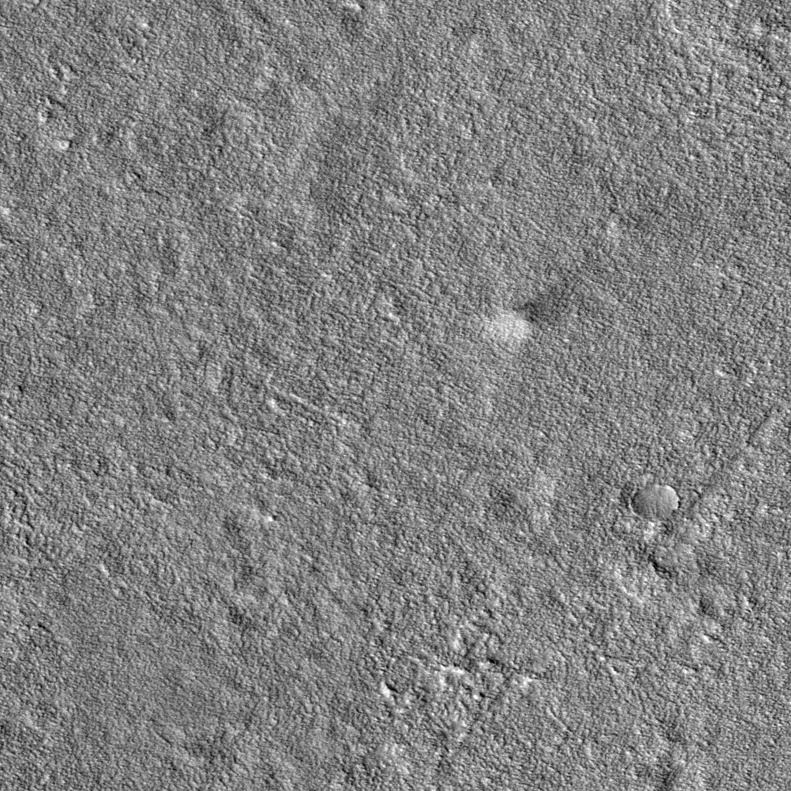dust_devil: (482, 282, 573, 353)
